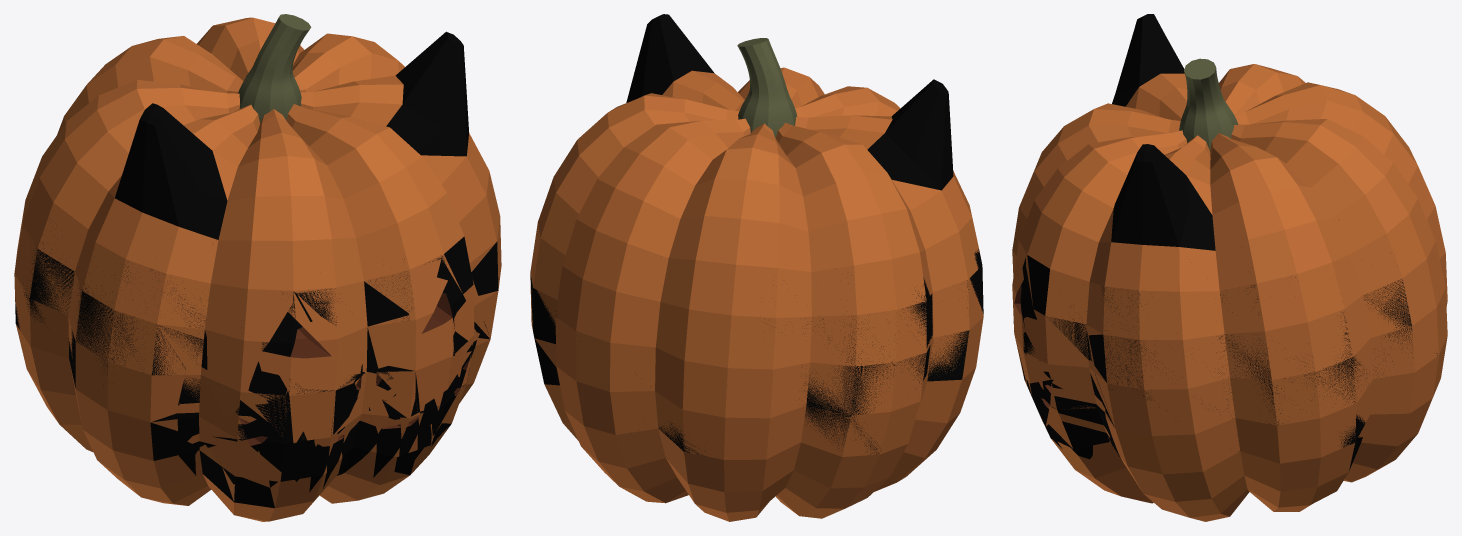
Rendered from Pumpkinheads.fbx.
3 renders of one model, left to right at view 1: azimuth 30°, elevation 25°; view 2: azimuth 150°, elevation 25°; view 3: azimuth 270°, elevation 25°, orthographic. The views are drawn at different scales.
Parts seen in each view (by area): view 1: Pumpkin 1, Pumpkin 3, Pumpkin 2; view 2: Pumpkin 1, Pumpkin 2, Pumpkin 3; view 3: Pumpkin 1, Pumpkin 2, Pumpkin 3.
Part boxes in pixels (<box>): Pumpkin 1: <box>14,14,501,508</box>; Pumpkin 3: <box>15,31,498,508</box>; Pumpkin 2: <box>14,29,498,521</box>; Pumpkin 1: <box>530,38,983,459</box>; Pumpkin 2: <box>534,45,983,521</box>; Pumpkin 3: <box>530,14,983,456</box>; Pumpkin 1: <box>1012,58,1447,448</box>; Pumpkin 2: <box>1012,68,1447,521</box>; Pumpkin 3: <box>1013,14,1437,470</box>.
Size of the model in its own units: 0.2849 by 0.3078 by 0.2856.
